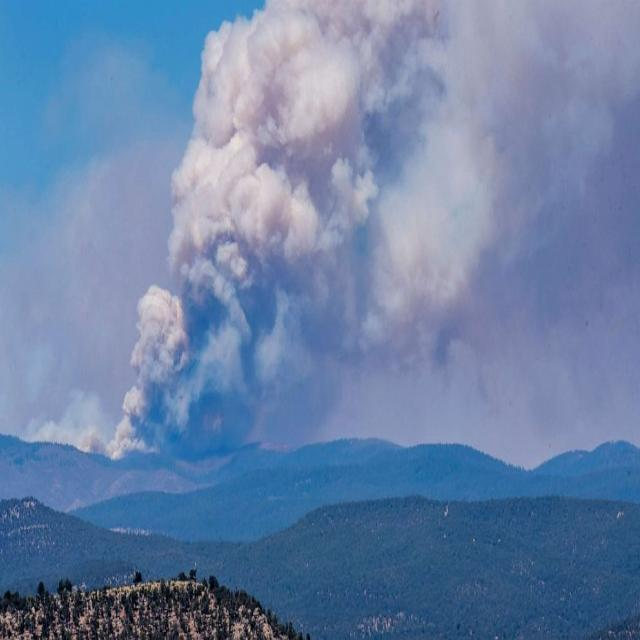Smoke: (96, 0, 503, 462)
